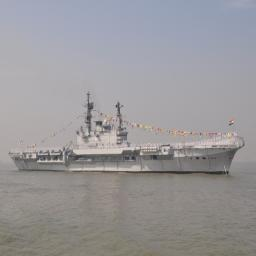Portanaves: (8, 88, 246, 177)
